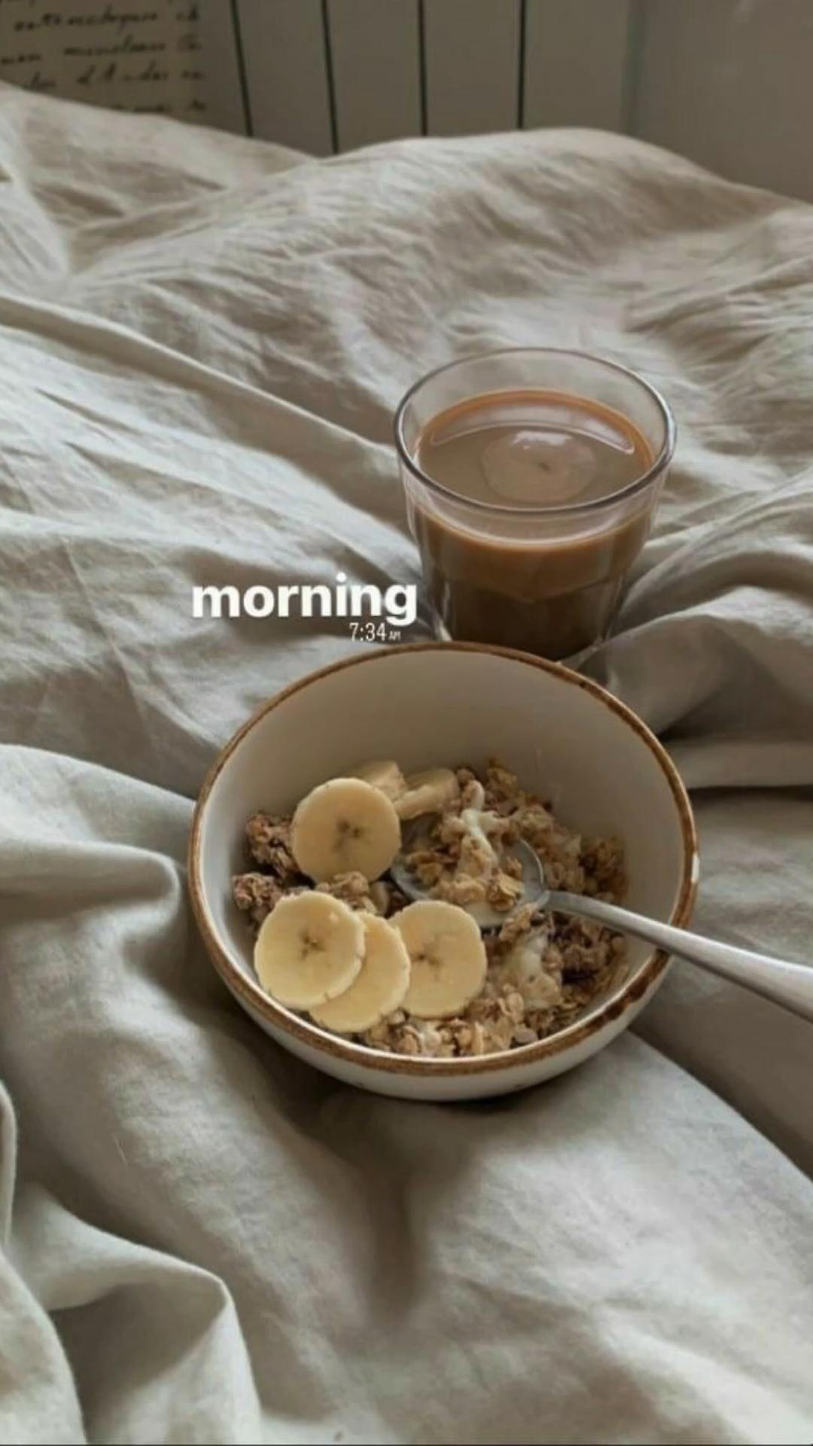glass-normal: (391, 343, 678, 657)
